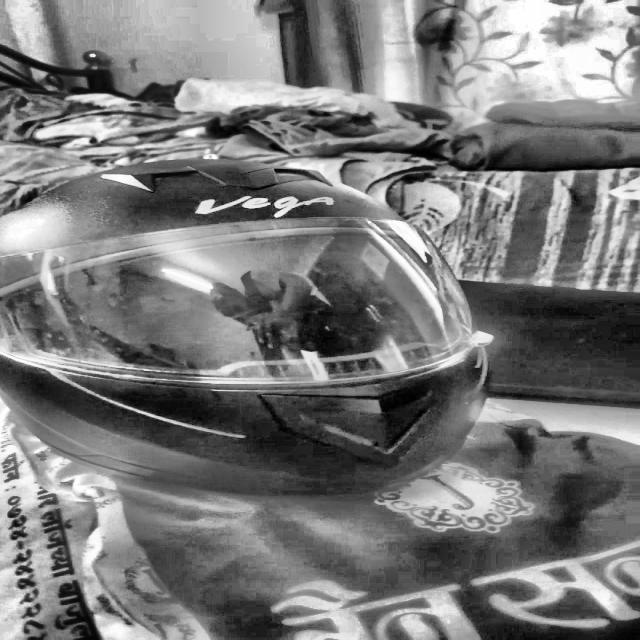Helmet: (7, 151, 508, 500)
